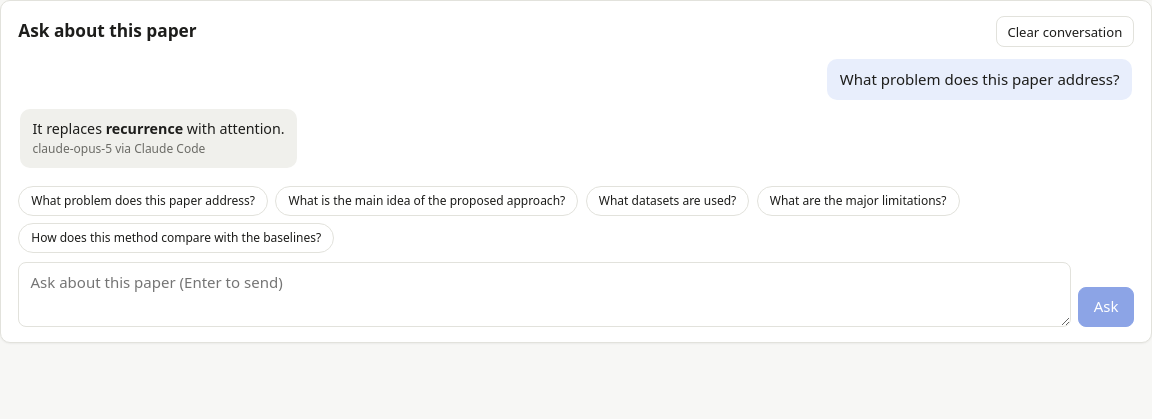
Test case: ChatPanel › keeps the conversation when clearing fails
Click the button "Clear conversation" at x=1065, y=32, box [996,16,1134,47]
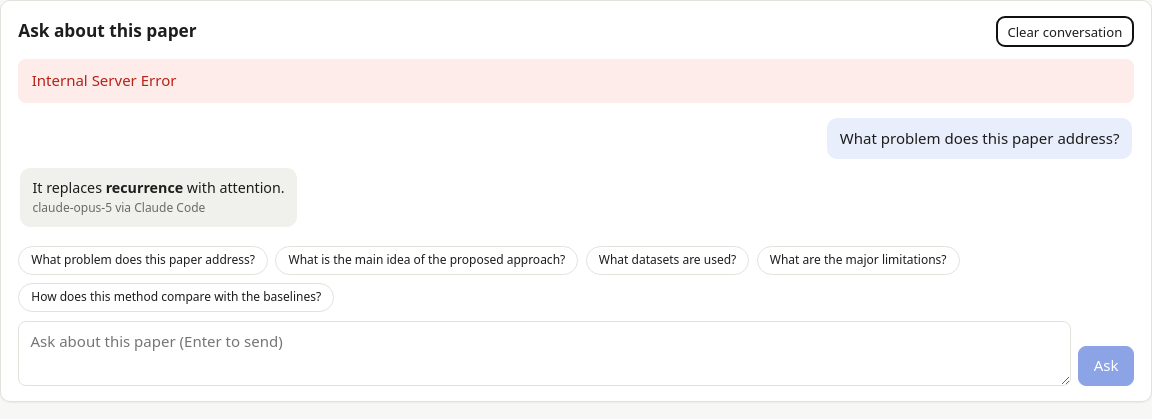
Expected: the text "Internal Server Error" is shown, [18,59,1134,103]
